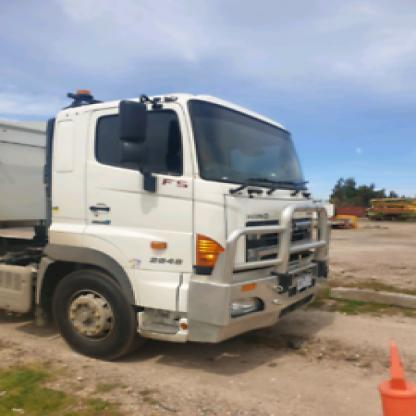dump_truck: (6, 82, 355, 372)
